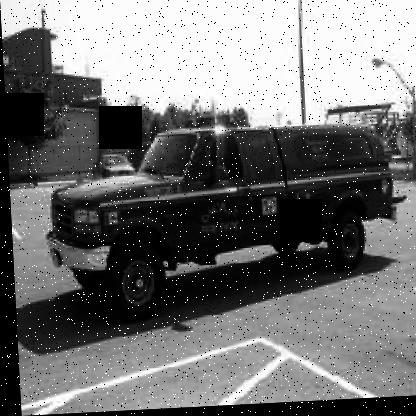emergency: (45, 88, 414, 327)
